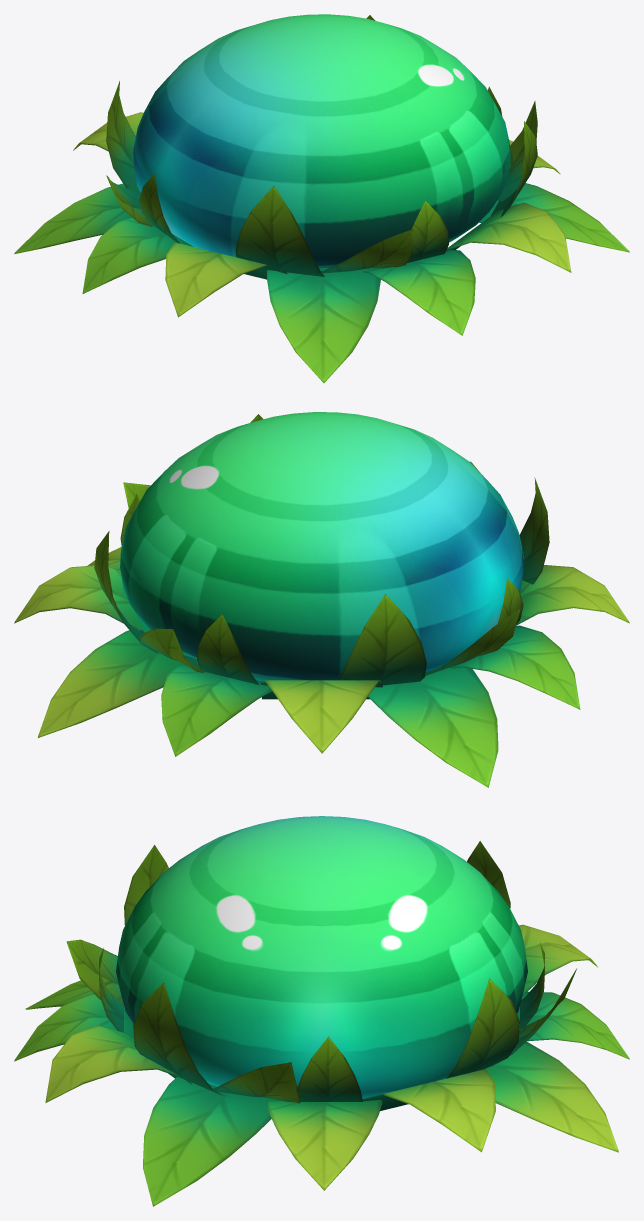
The model's file is scenes_common_jelly01a.FBX.
3 renders of one model, top to bottom at view 1: azimuth 30°, elevation 25°; view 2: azimuth 150°, elevation 25°; view 3: azimuth 270°, elevation 25°, orthographic. The views are drawn at different scales.
Parts seen in each view (by area): view 1: scenes_common_jelly01a; view 2: scenes_common_jelly01a; view 3: scenes_common_jelly01a.
Part boxes in pixels (bbox=[...]): scenes_common_jelly01a: bbox=[14, 14, 629, 382]; scenes_common_jelly01a: bbox=[14, 412, 629, 787]; scenes_common_jelly01a: bbox=[14, 816, 629, 1206].
Size of the model in its own units: 309 by 132 by 309.
